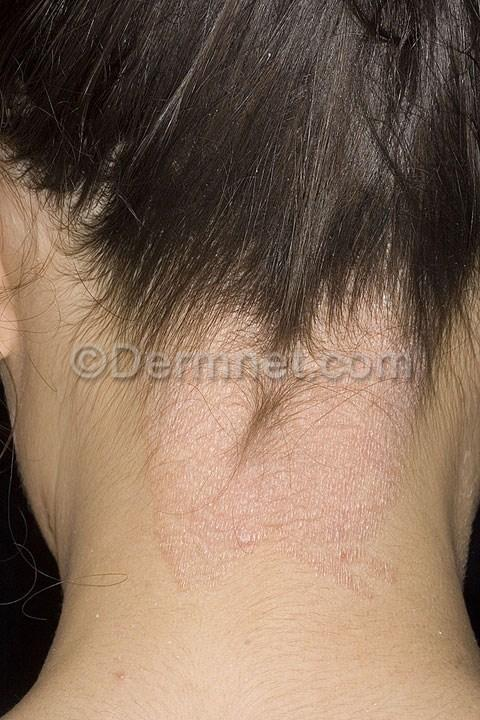Eczema: (143, 381, 399, 655), (194, 285, 395, 363)
